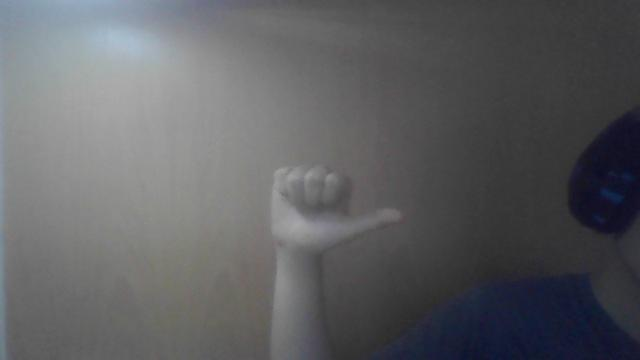left: (264, 151, 408, 259)
